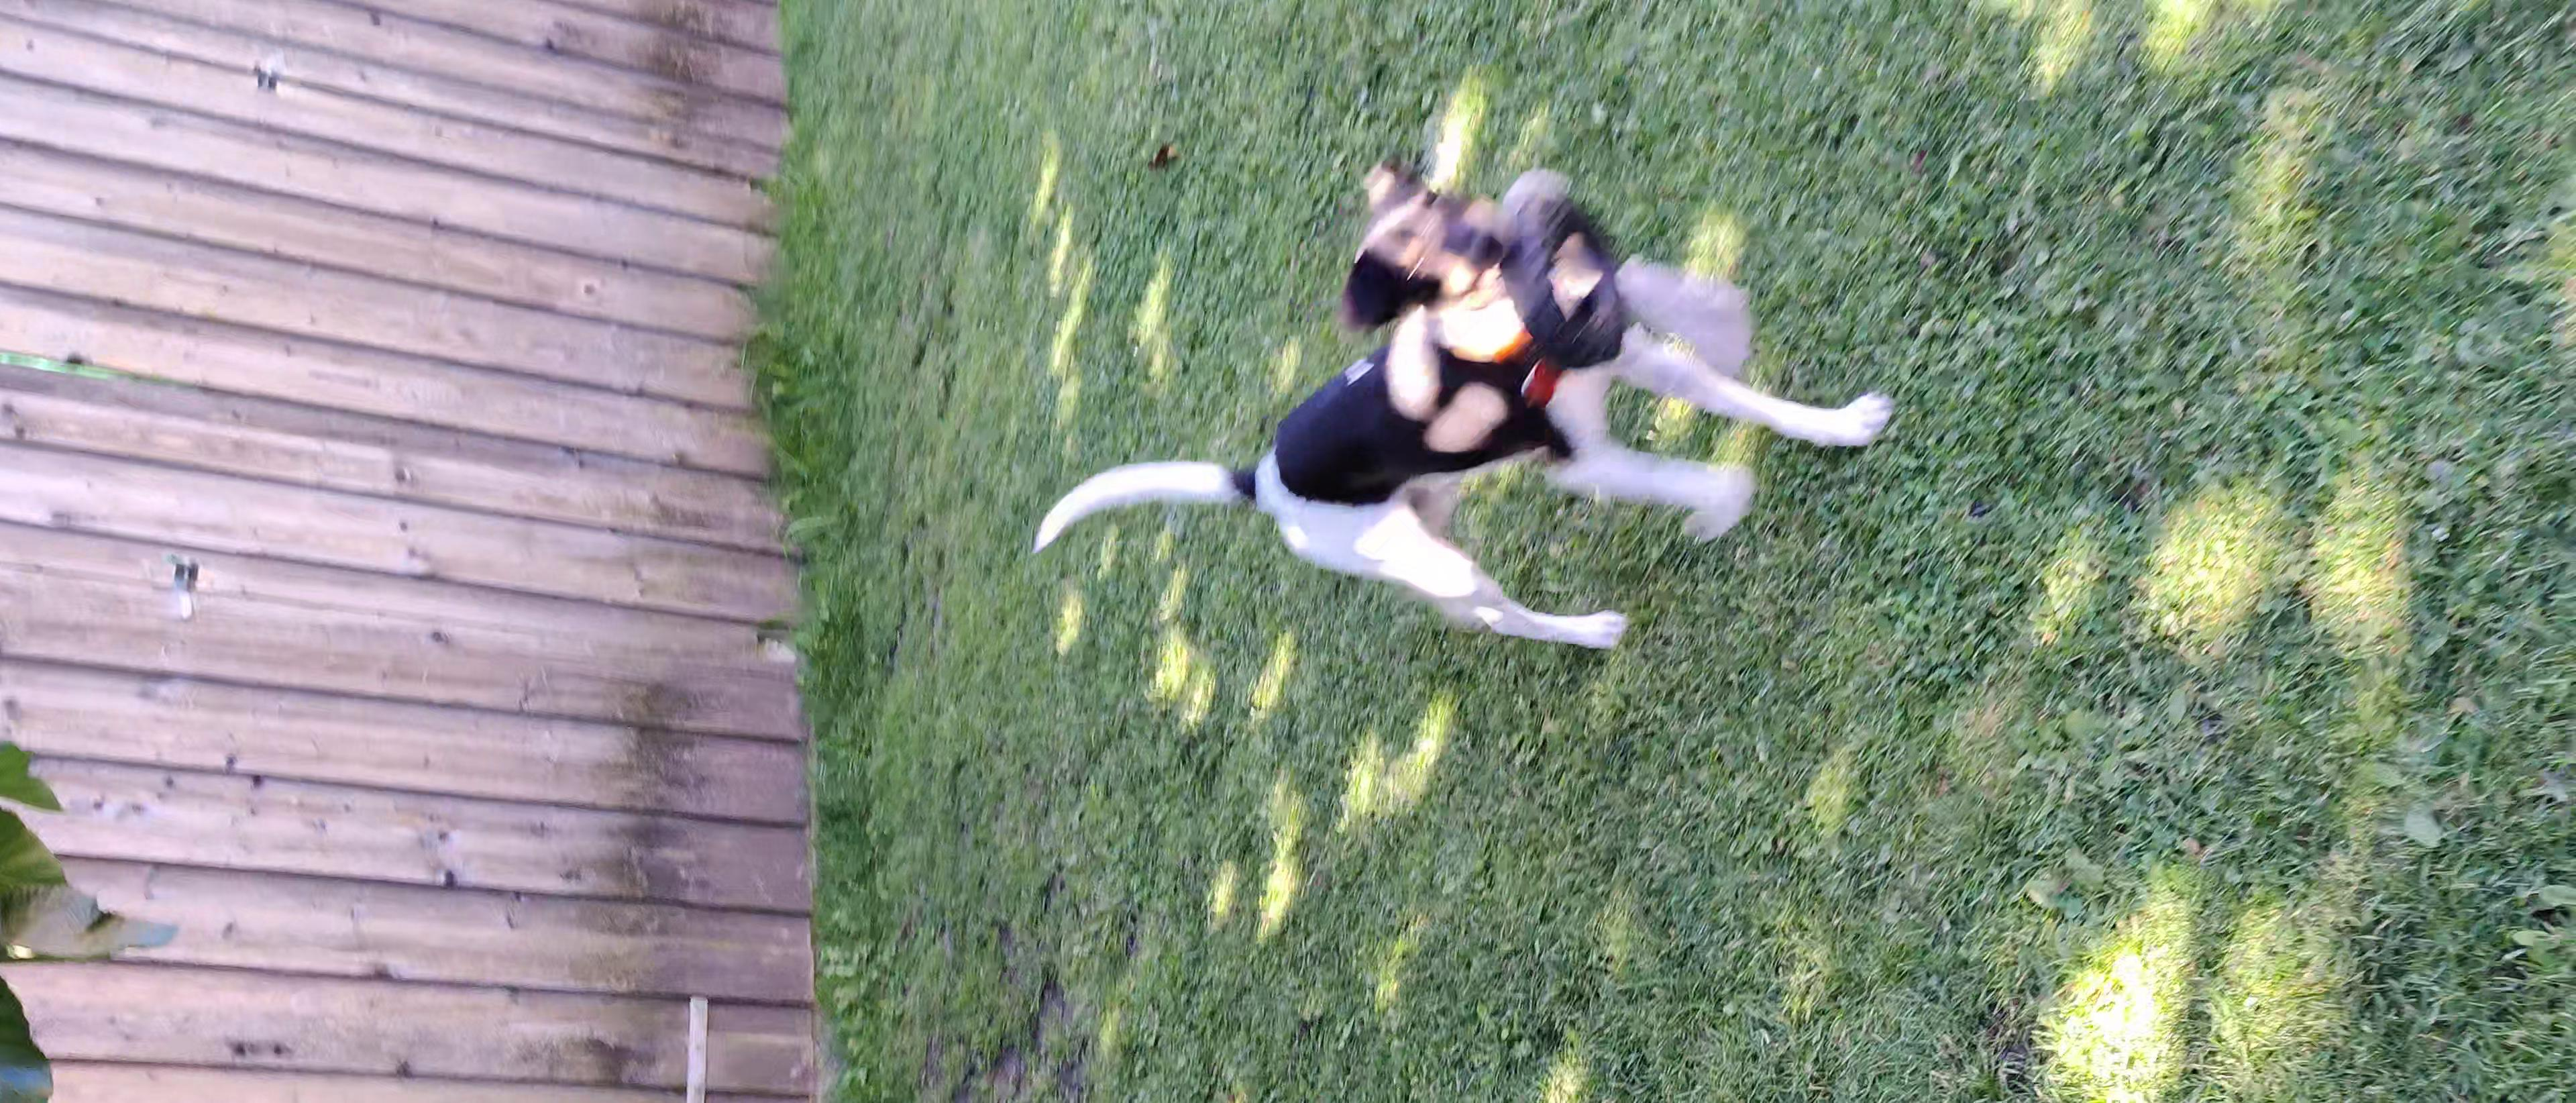Dog: (1030, 150, 1902, 690)
